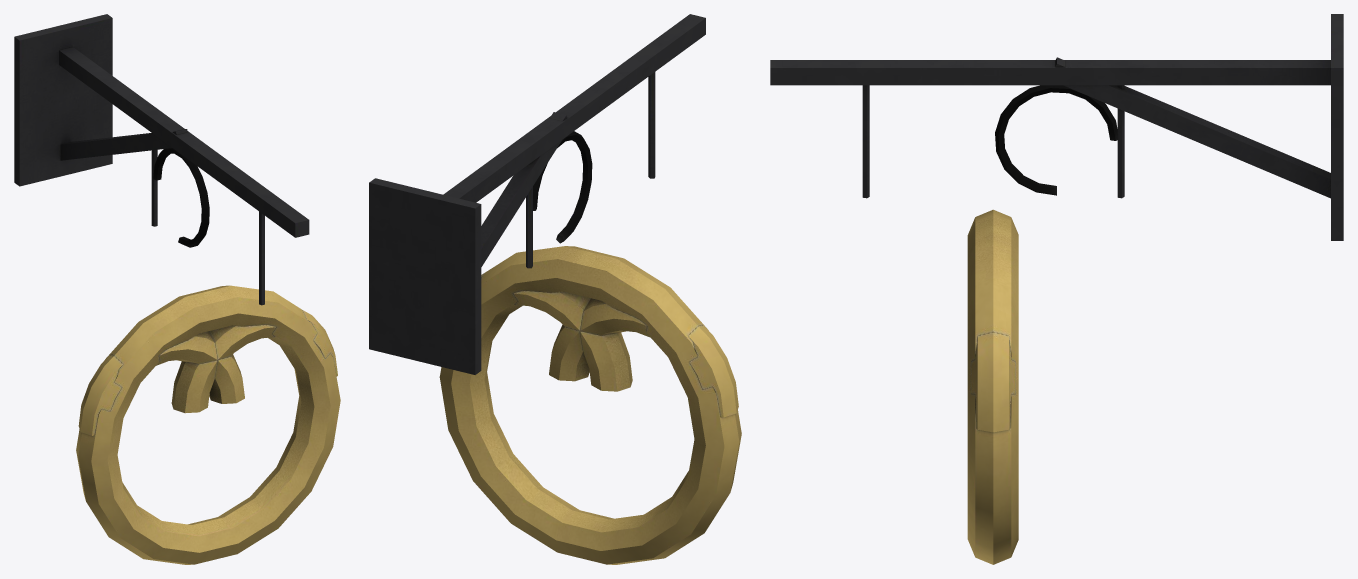
Rendered from sign_bakery.glb.
3 renders of one model, left to right at view 1: azimuth 30°, elevation 25°; view 2: azimuth 150°, elevation 25°; view 3: azimuth 270°, elevation 25°, orthographic. The views are drawn at different scales.
Visible parts, largest first — view 1: sign_bakery; view 2: sign_bakery; view 3: sign_bakery.
Part boxes in pixels (x1=…): sign_bakery: x1=14, y1=14, x2=340, y2=564; sign_bakery: x1=369, y1=14, x2=741, y2=564; sign_bakery: x1=770, y1=14, x2=1343, y2=564.
Bounding box in the file's own units: 0.56 × 0.8757 × 0.9.
1 material, 1 textured.
